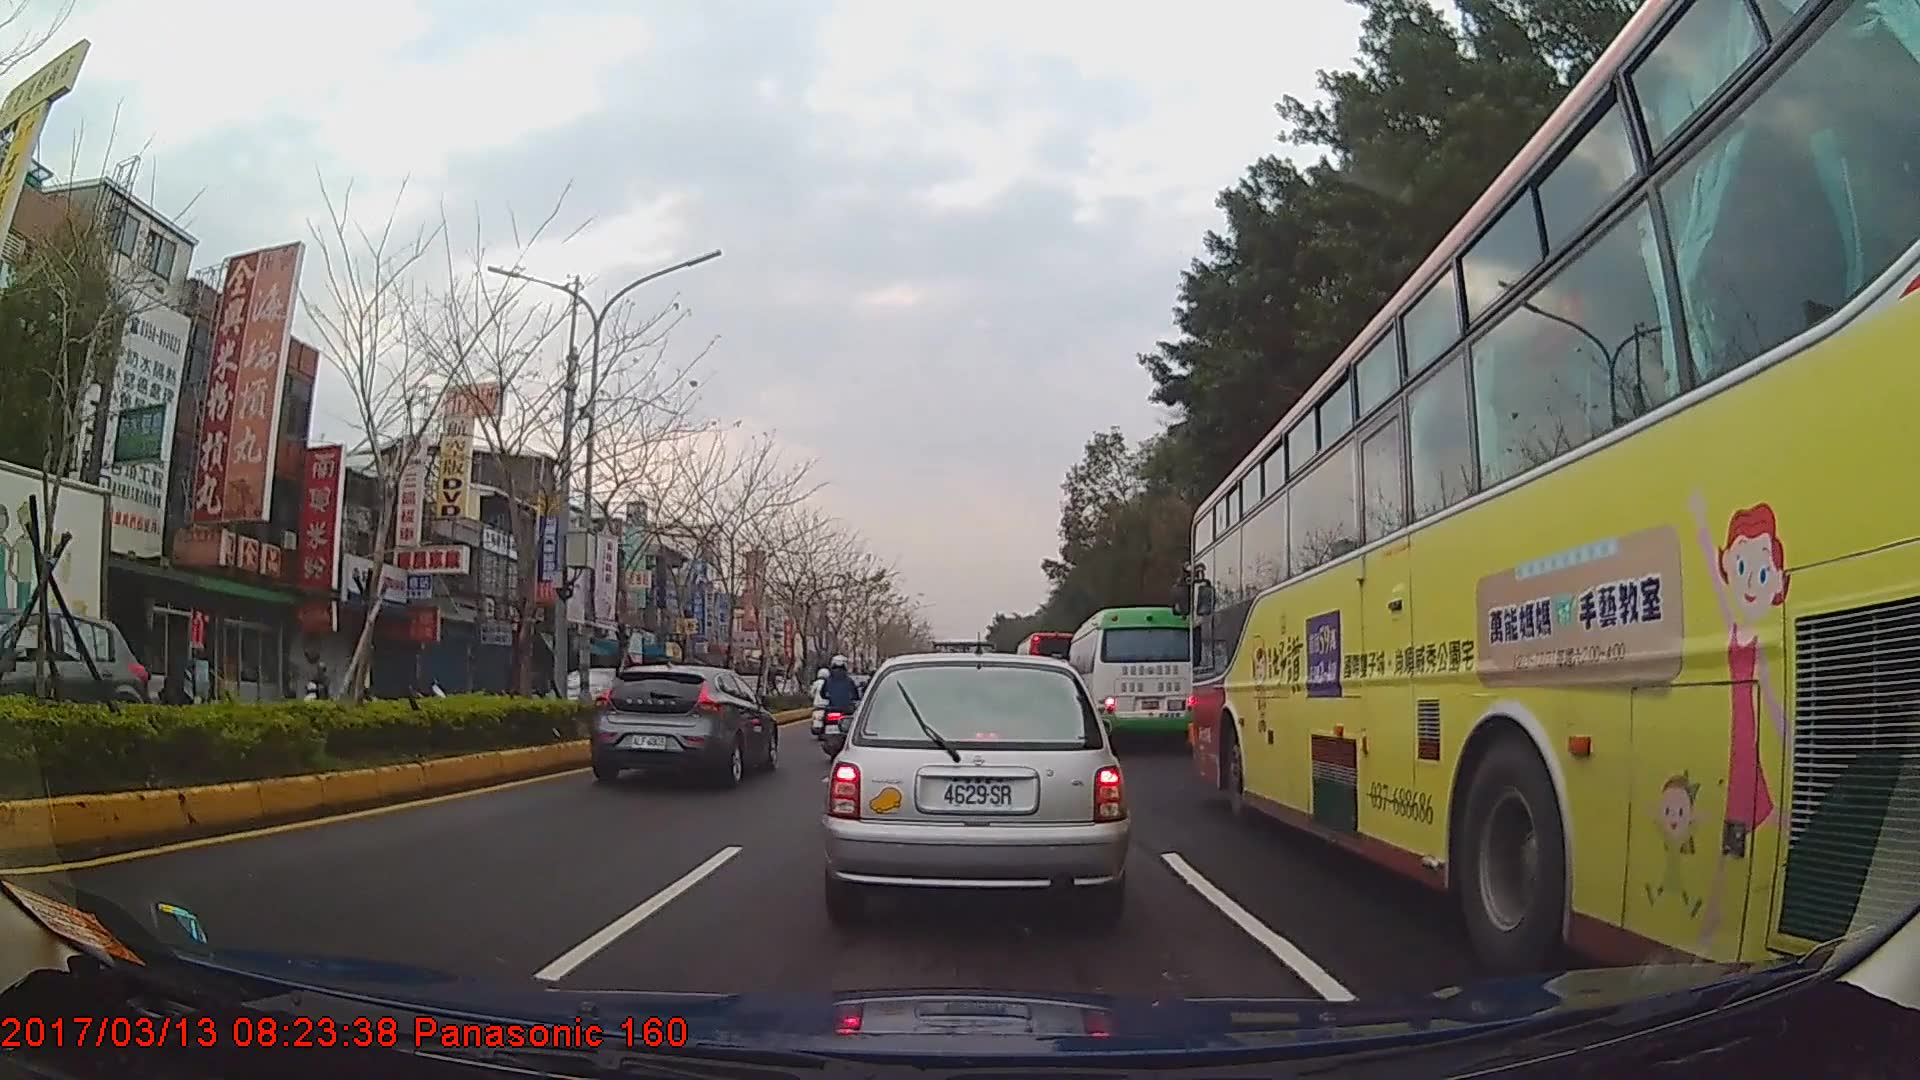rider: (819, 654, 863, 748), (305, 663, 332, 705)
vehicle: (1184, 0, 1920, 1027), (825, 648, 1129, 928), (0, 454, 112, 756), (589, 662, 779, 790), (0, 608, 150, 747), (1064, 606, 1197, 750), (1013, 629, 1083, 706)
